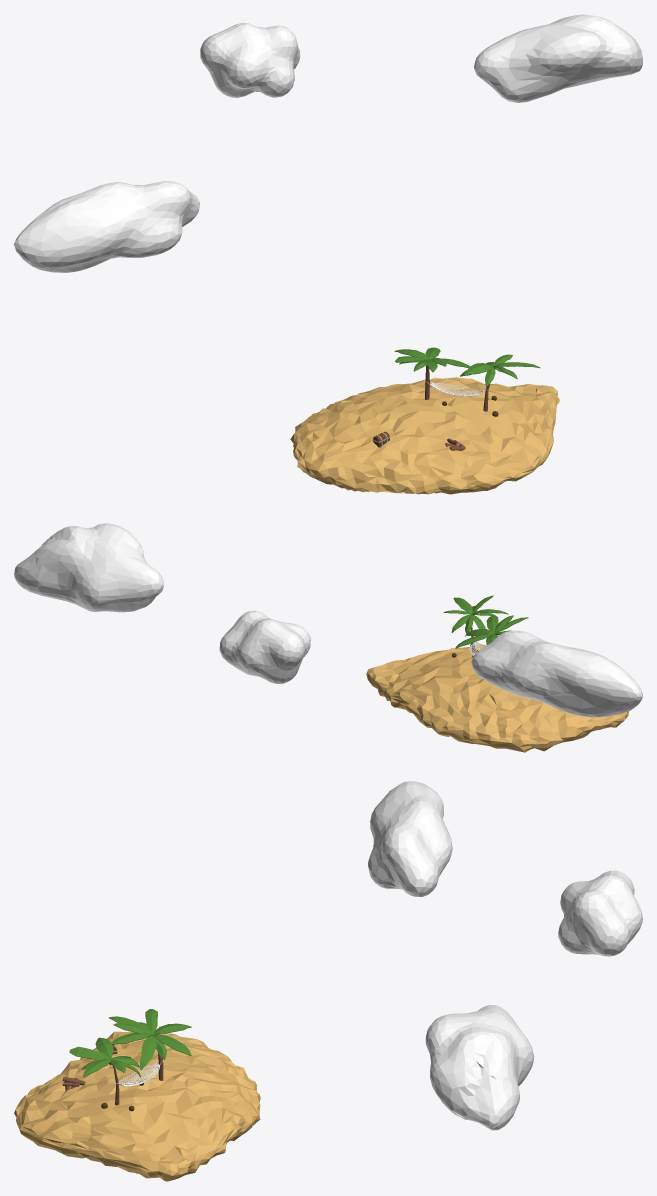
Rendered from lowPolyIslandWithoutWater.glb.
The picture shows the model from 3 angles, top to bottom: view 1: azimuth 30°, elevation 25°; view 2: azimuth 150°, elevation 25°; view 3: azimuth 270°, elevation 25°; orthographic projection. The views are drawn at different scales.
Visible parts, largest first — view 1: Island, Cloud.001, Cloud.002, Cloud, Tree1, Tree2; view 2: Island, Cloud.002, Cloud.001, Cloud, Tree2, Tree1; view 3: Island, Cloud.002, Cloud.001, Cloud, Tree1, Tree2.
Boxes of the visible parts, x1,y1,x2,y2 form: Island: [290, 377, 560, 494]; Cloud.001: [14, 181, 199, 272]; Cloud.002: [474, 14, 642, 102]; Cloud: [200, 22, 300, 97]; Tree1: [394, 347, 469, 399]; Tree2: [460, 354, 540, 411]; Island: [366, 644, 628, 752]; Cloud.002: [14, 523, 163, 612]; Cloud.001: [471, 630, 642, 717]; Cloud: [219, 610, 310, 683]; Tree2: [443, 595, 508, 657]; Tree1: [455, 615, 528, 648]; Island: [14, 1031, 260, 1181]; Cloud.002: [425, 1005, 534, 1130]; Cloud.001: [368, 781, 452, 896]; Cloud: [558, 870, 642, 956]; Tree1: [109, 1009, 191, 1080]; Tree2: [69, 1037, 140, 1105].
Size of the model in its own units: 10.92 by 4 by 8.57.
